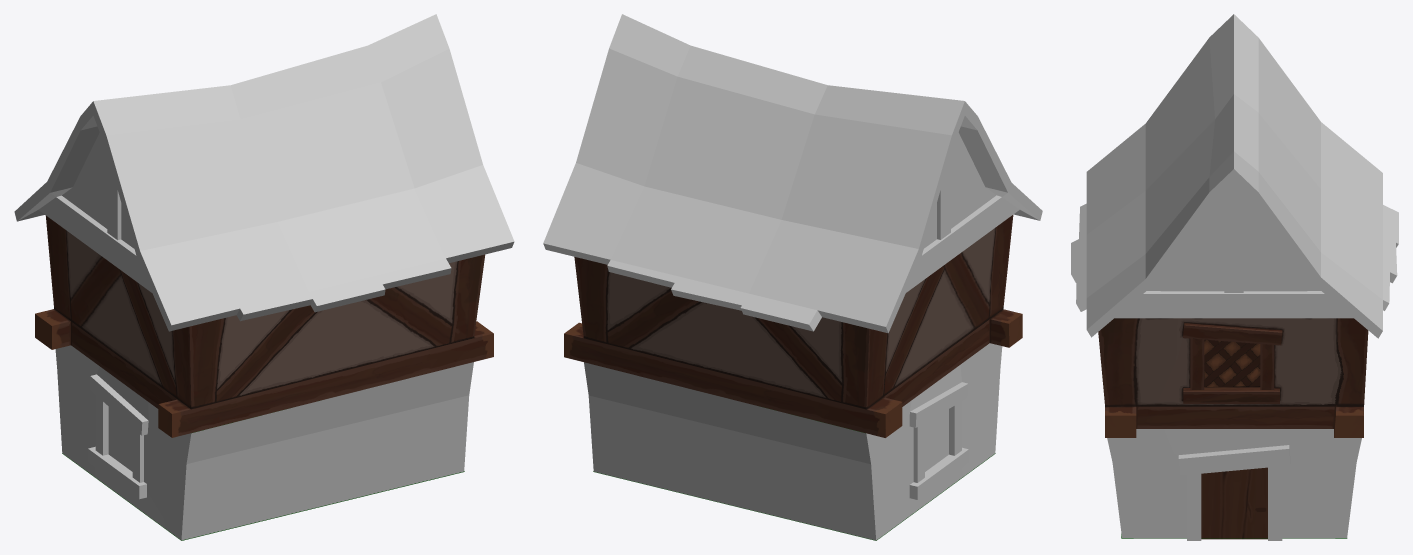
File: house1.fbx
3 views of the same model, side by side, from view 1: azimuth 30°, elevation 25°; view 2: azimuth 150°, elevation 25°; view 3: azimuth 270°, elevation 25° (orthographic). The views are drawn at different scales.
Visible parts, largest first — view 1: Cube.000, Cube.013, Cube.004; view 2: Cube.000, Cube.013, Cube.004; view 3: Cube.000, Cube.013, Cube.004, Cube.005.
Part boxes in pixels (x1,y1,x2,y2): Cube.000: (14,14,514,331); Cube.013: (35,215,493,437); Cube.004: (55,345,473,540); Cube.000: (543,14,1042,333); Cube.013: (564,215,1022,437); Cube.004: (584,343,1002,540); Cube.000: (1071,14,1398,338); Cube.013: (1098,318,1368,437); Cube.004: (1107,429,1361,540); Cube.005: (1201,467,1267,539).
Bounding box in the file's own units: 406 × 461 × 355.
